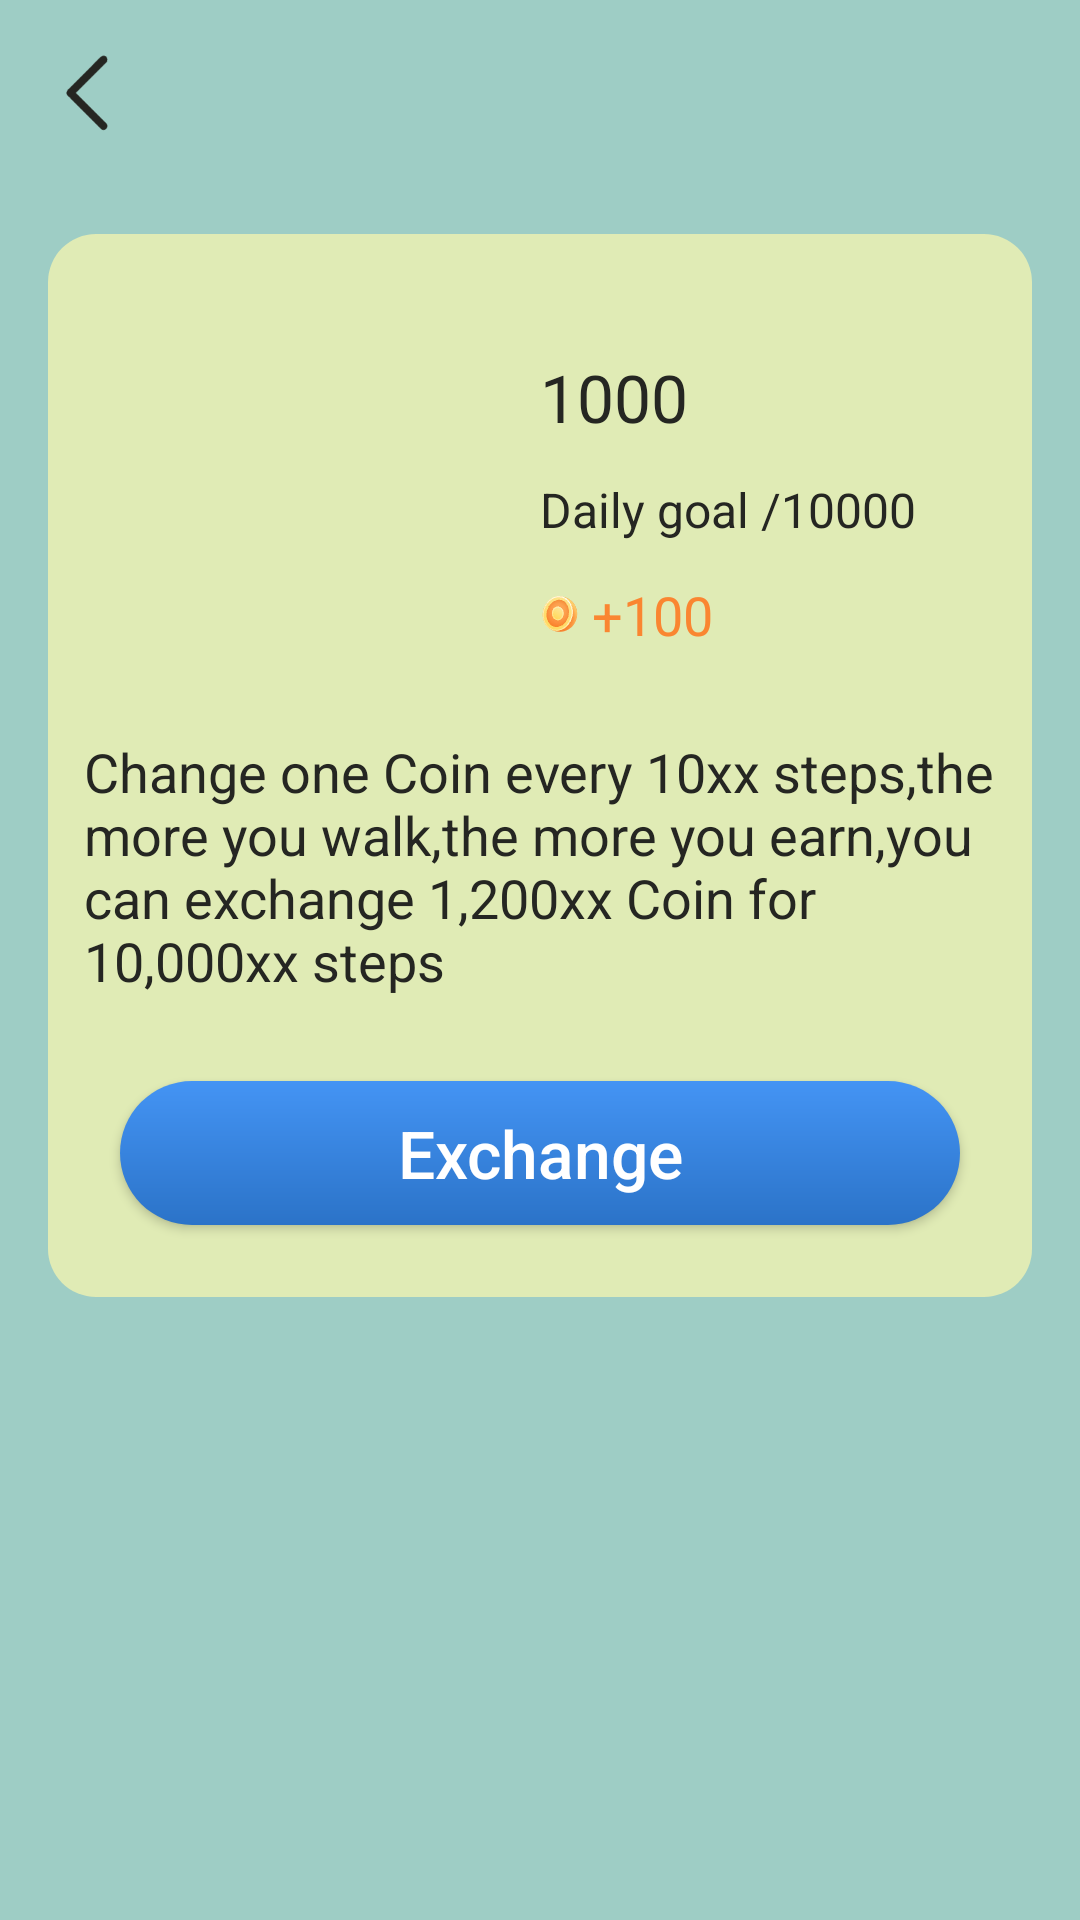

Point at icon controls on the screen. Image size 1080 x 1920, points as (x=x, y=y).
back: (x=87, y=92)
